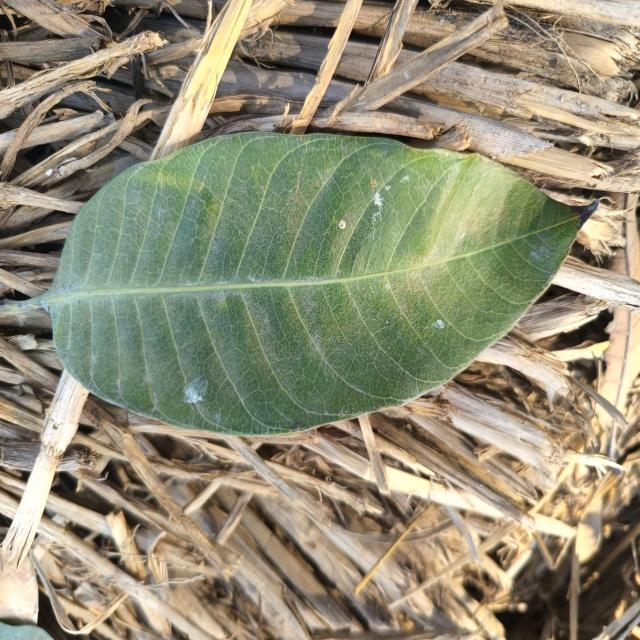Powdery Mildew: (372, 191, 385, 214), (337, 217, 346, 232)
